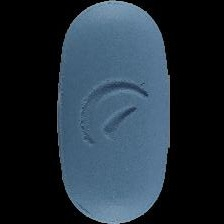63187-311: (0, 0, 224, 224)
